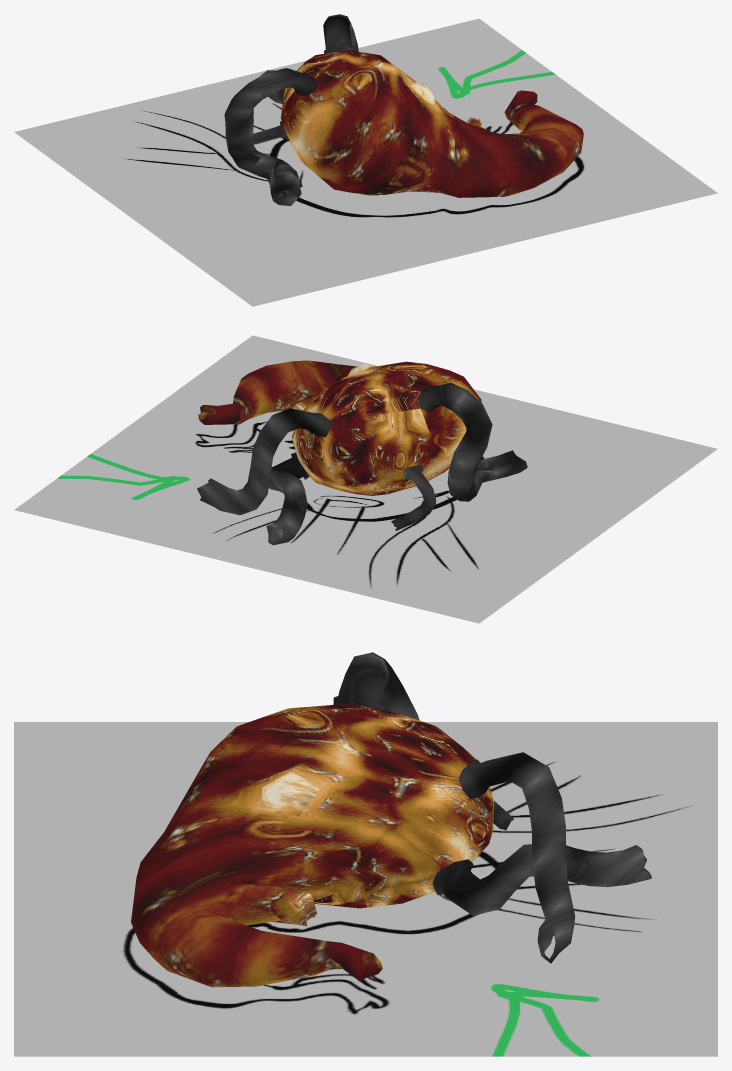
File: fetiw.glb
The picture shows the model from 3 angles, top to bottom: view 1: azimuth 30°, elevation 25°; view 2: azimuth 150°, elevation 25°; view 3: azimuth 270°, elevation 25°; orthographic projection. The views are drawn at different scales.
Parts seen in each view (by area): view 1: fetiw, Mball.007; view 2: fetiw, Mball.007; view 3: fetiw, Mball.007.
Part boxes in pixels (x1,y1,x2,y2): fetiw: [14, 18, 717, 306]; Mball.007: [224, 14, 583, 205]; fetiw: [14, 335, 717, 623]; Mball.007: [197, 360, 527, 545]; fetiw: [14, 722, 717, 1056]; Mball.007: [131, 652, 651, 987].
Size of the model in its own units: 11.26 by 2.81 by 10.
Materials: 3 (3 with a texture image).
